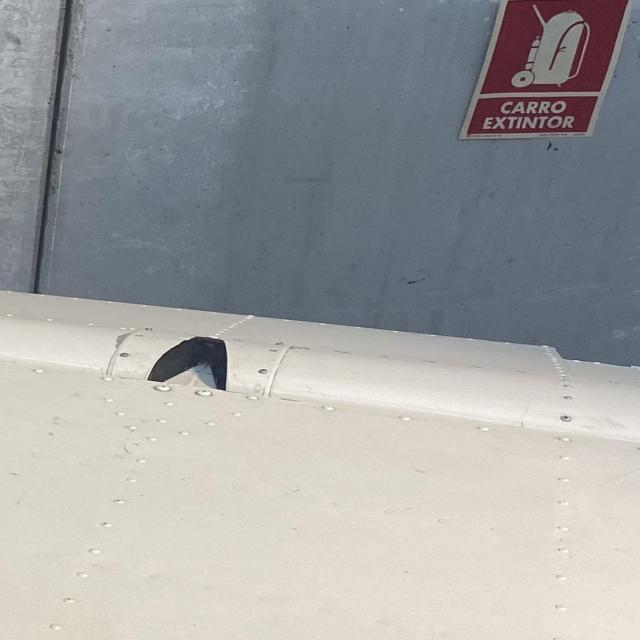Paint-off: (115, 332, 131, 350)
